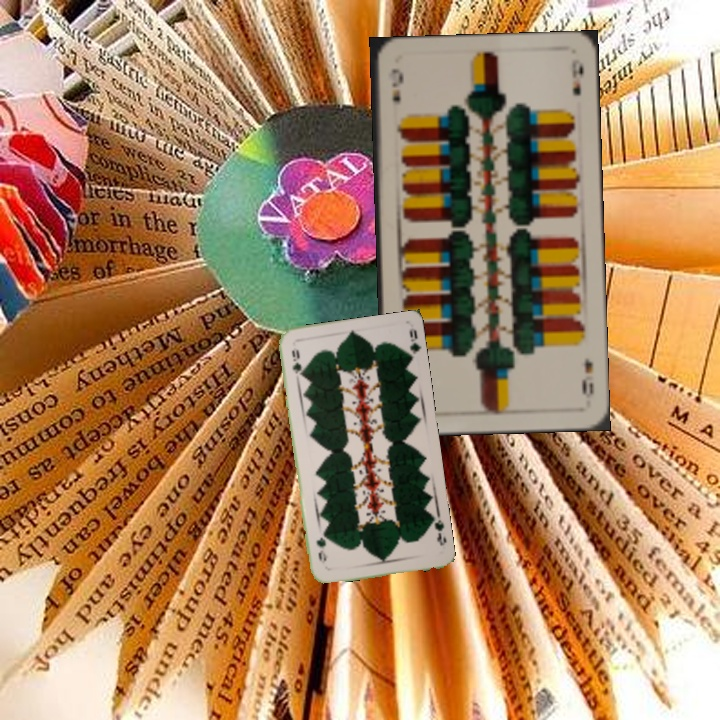E9: (577, 354, 596, 397), (387, 64, 405, 104)
G9: (427, 512, 449, 548), (288, 345, 304, 380)
